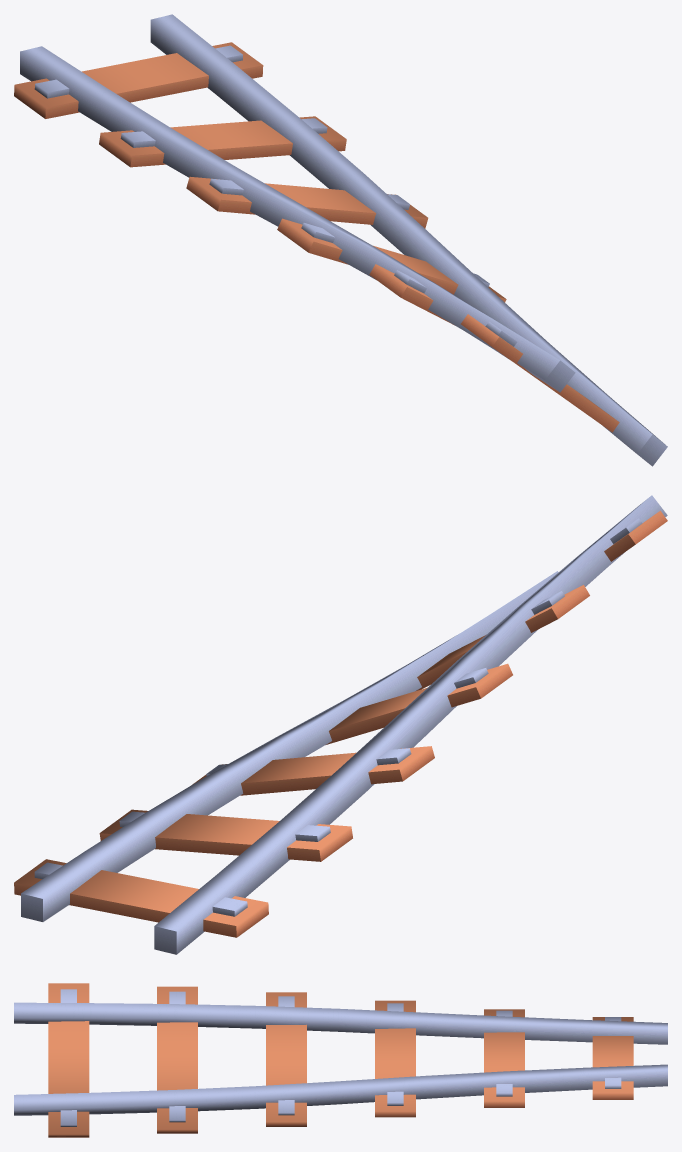
File: railroad-straight-skew-left.glb
3 views of the same model, one above another, from view 1: azimuth 30°, elevation 25°; view 2: azimuth 150°, elevation 25°; view 3: azimuth 270°, elevation 25° (orthographic). The views are drawn at different scales.
Visible parts, largest first — view 1: railroad-straight-skew-left; view 2: railroad-straight-skew-left; view 3: railroad-straight-skew-left.
Boxes of the visible parts, x1,y1,x2,y2 form: railroad-straight-skew-left: (14,14,667,466); railroad-straight-skew-left: (14,495,667,954); railroad-straight-skew-left: (14,983,667,1137).
Bounding box in the file's own units: 1 × 0.7105 × 4.
1 material, 1 textured.
